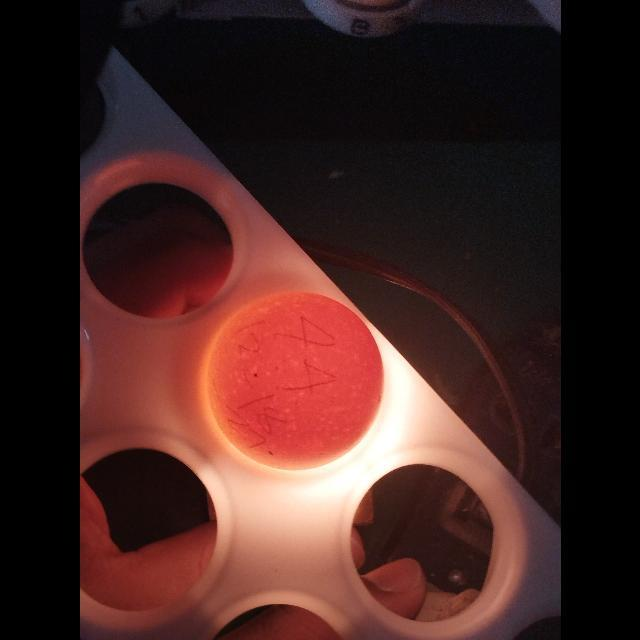Infertile: (203, 288, 384, 478)
